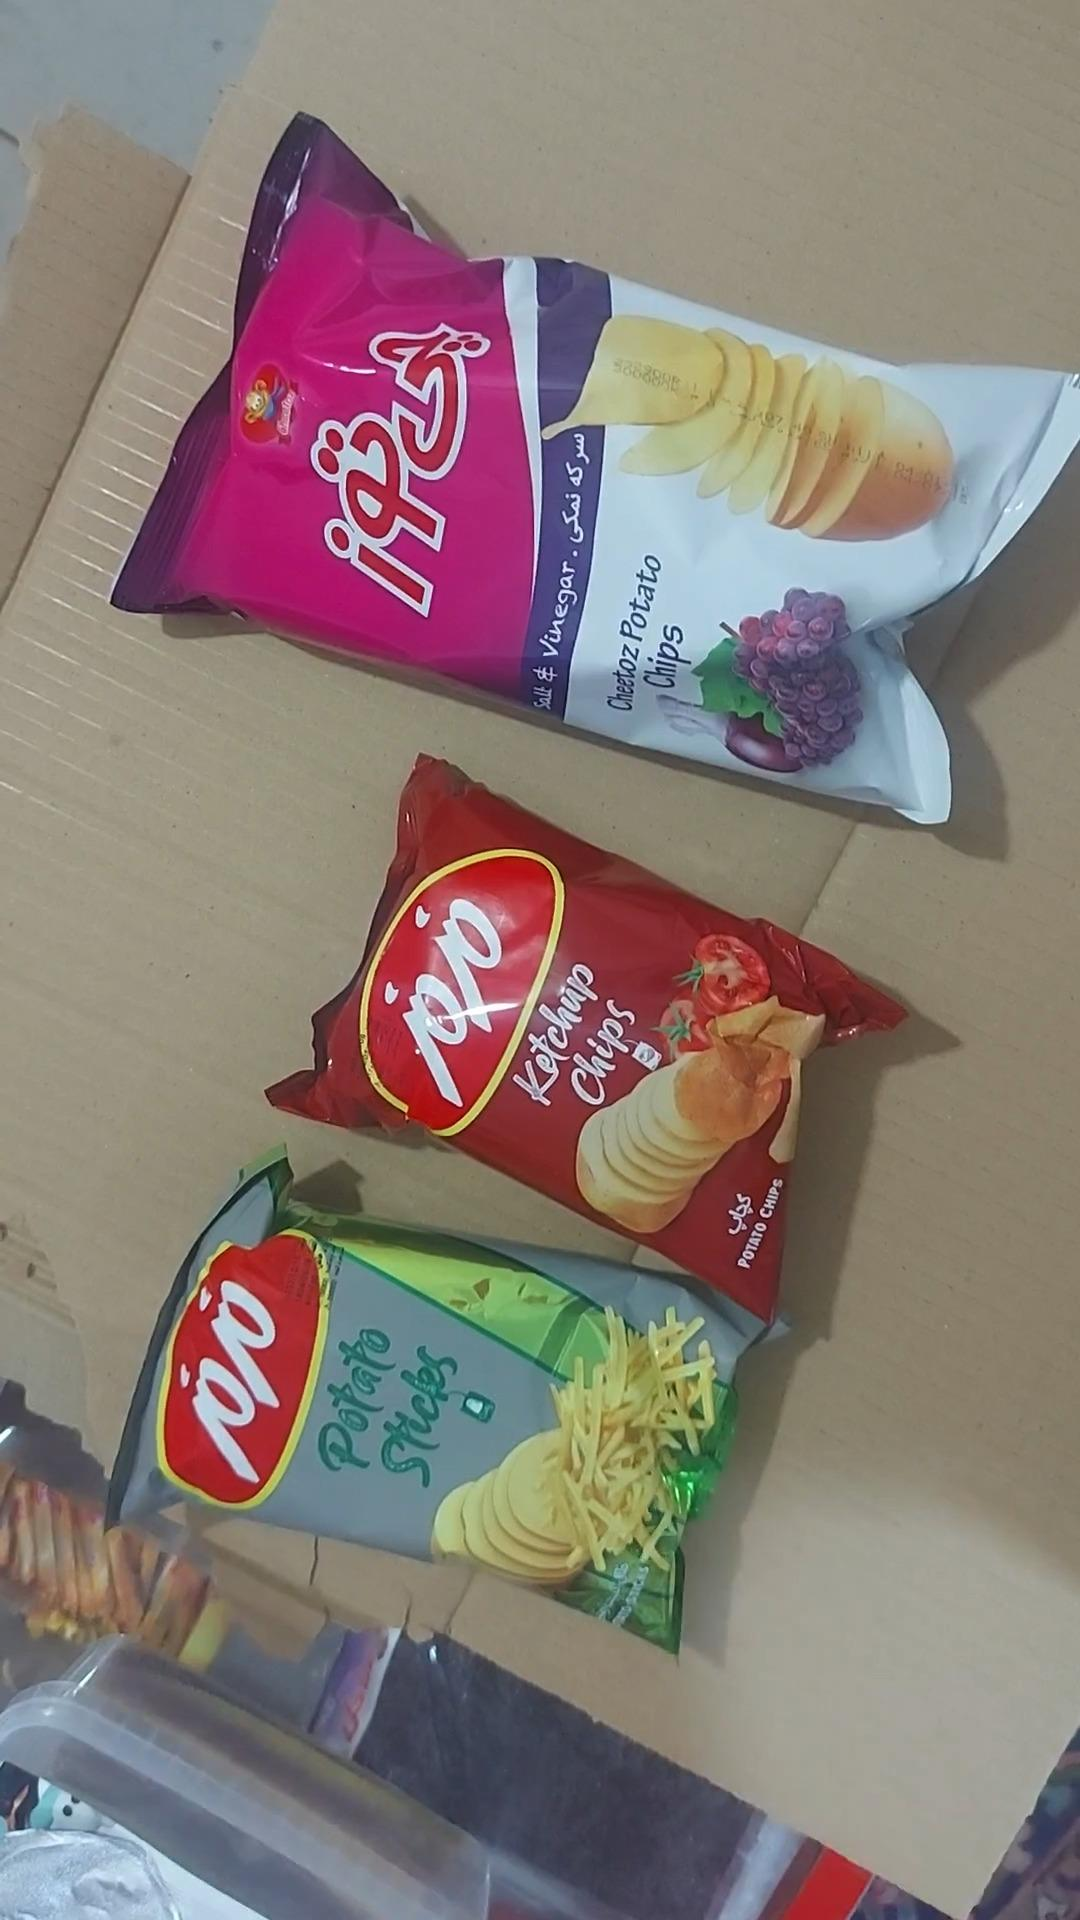Cheetoz vinegar chips: (109, 115, 1079, 831)
Maz Maz ketchup chips: (261, 754, 907, 1324)
Maz Maz potato sticks: (103, 1145, 765, 1658)
